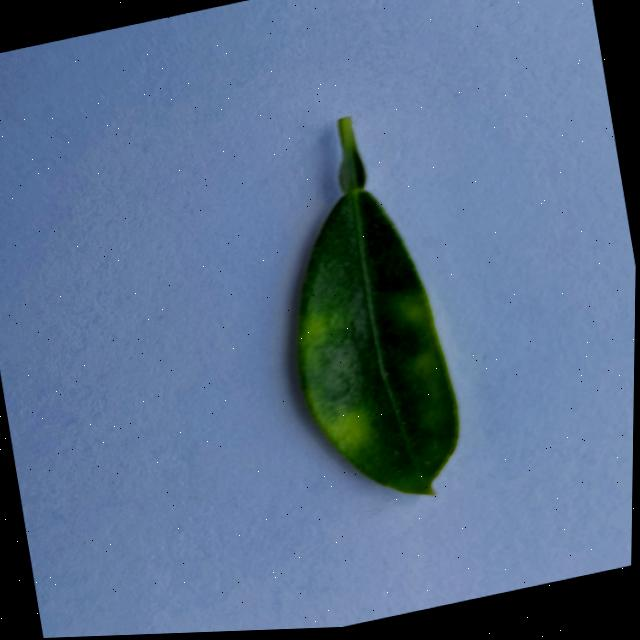greening: (297, 116, 457, 494)
